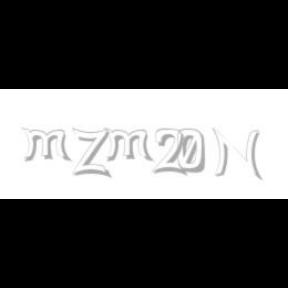0: (178, 128, 208, 174)
2: (151, 128, 185, 176)
N: (212, 128, 260, 180)
Z: (72, 128, 110, 178)
m: (21, 128, 73, 162), (102, 128, 154, 162)
